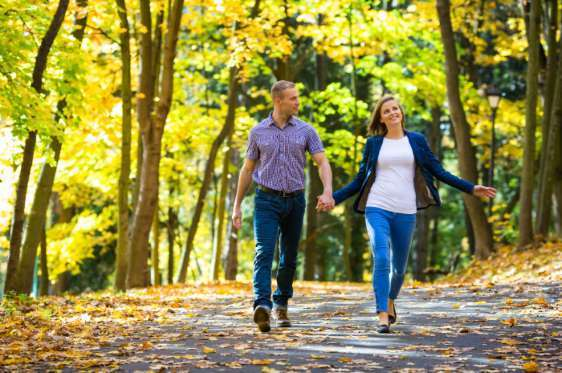Bad: (231, 80, 495, 332)
